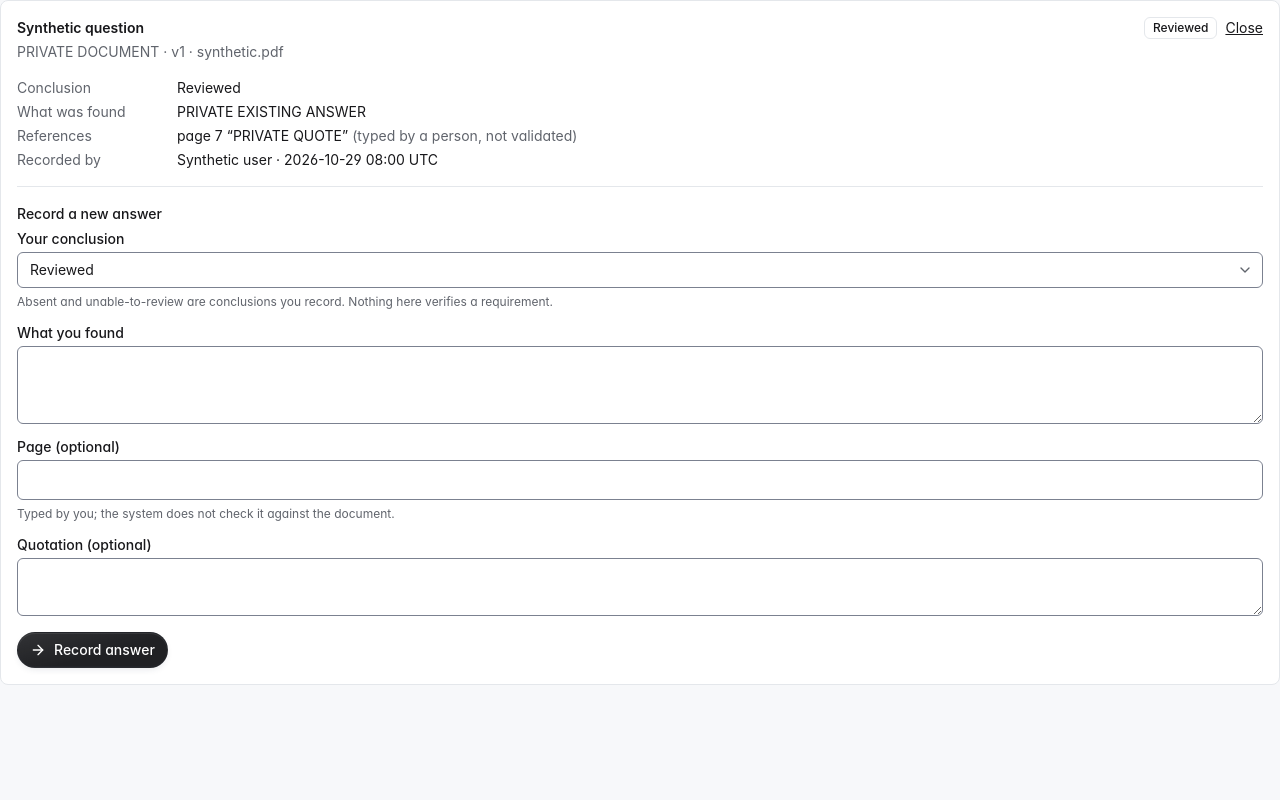
Test: a stale conflict (412) keeps the loaded content and the typed text
Type "new note" into the text box labelled "What you found" at (640, 385), box [17,346,1263,424]
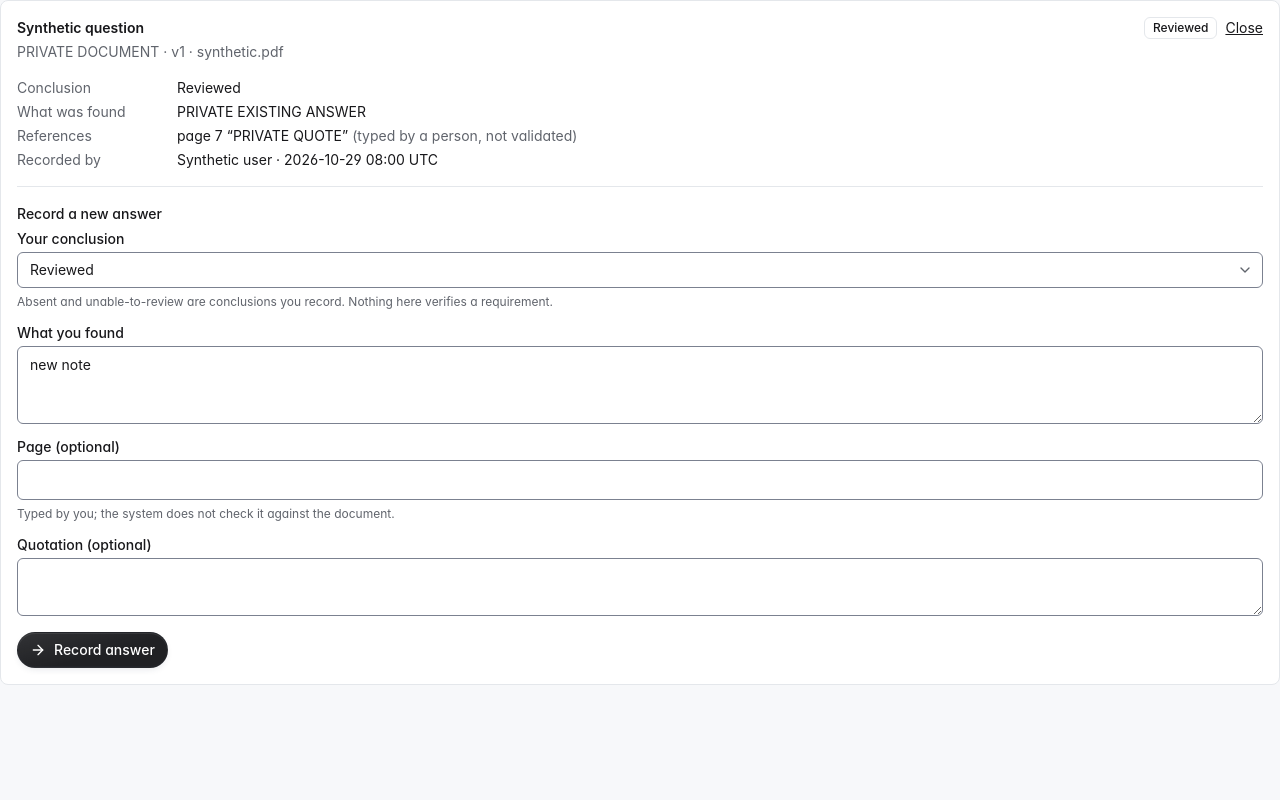
Click the button "Record answer" at (92, 650), box [17,632,168,668]
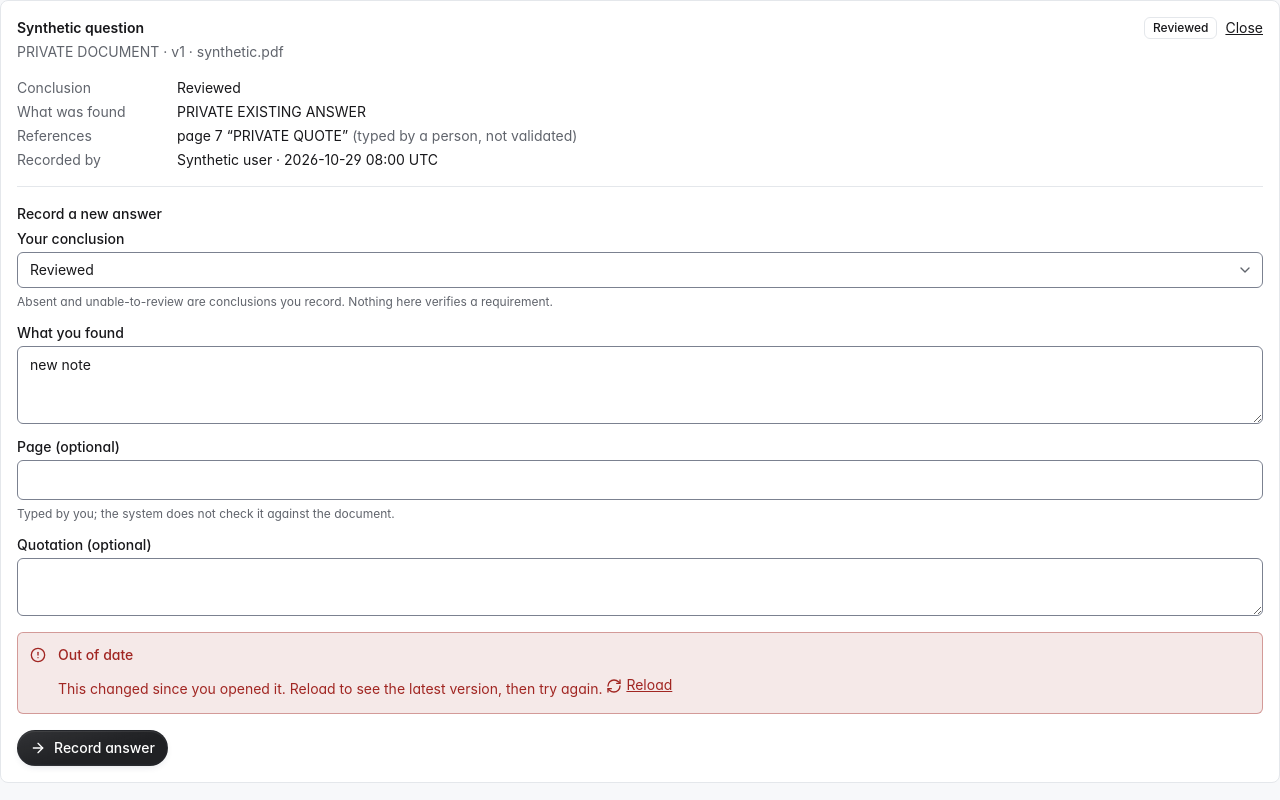
Expected: the text "PRIVATE EXISTING ANSWER" is shown, [177,103,366,120]
Now the text "This changed since you opened it. Reload to see the latest version, then try again." is shown, box [58,680,602,697]
